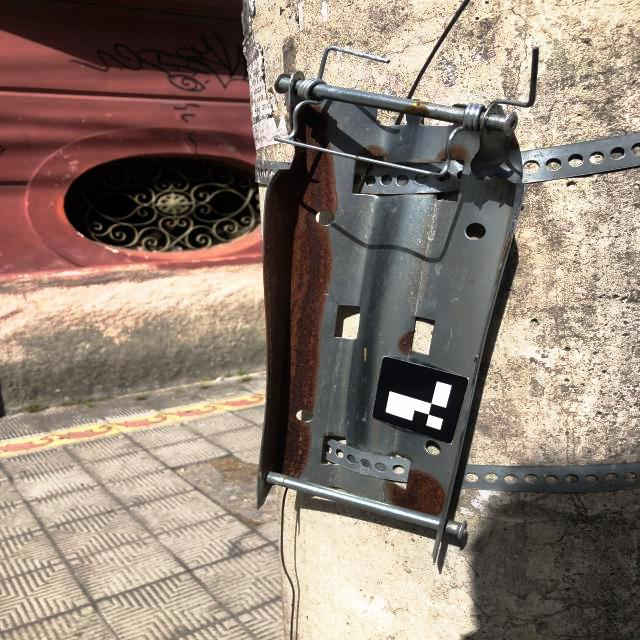Corrosion: (261, 148, 338, 478), (389, 470, 446, 516), (294, 104, 332, 150), (497, 236, 511, 277), (358, 146, 388, 161), (399, 331, 415, 355), (419, 149, 447, 162), (451, 145, 468, 160), (289, 104, 295, 131)
